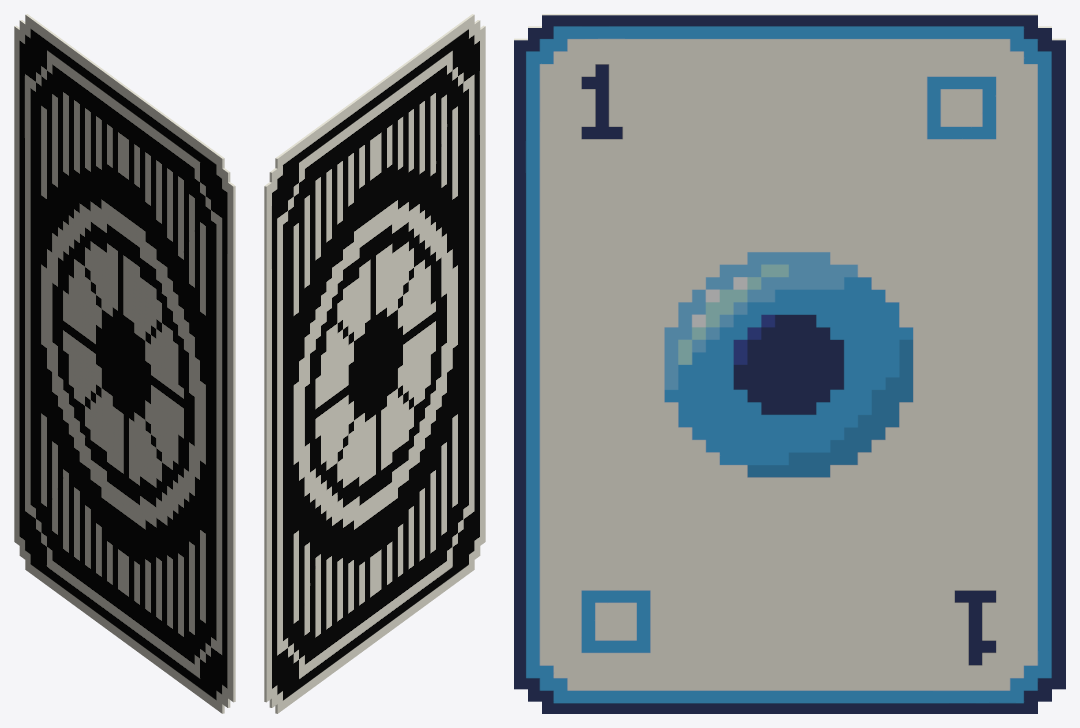
File: Blue1 single.fbx
3 views of the same model, side by side, from view 1: azimuth 30°, elevation 25°; view 2: azimuth 150°, elevation 25°; view 3: azimuth 270°, elevation 25° (orthographic). The views are drawn at different scales.
Visible parts, largest first — view 1: Cube.025; view 2: Cube.025; view 3: Cube.025.
Part boxes in pixels (left/top/right/bottom): Cube.025: left=14, top=14, right=235, bottom=713; Cube.025: left=264, top=14, right=485, bottom=713; Cube.025: left=514, top=14, right=1065, bottom=713.
Size of the model in its own units: 0.1921 by 43.62 by 31.23.
2 materials, 2 textured.
